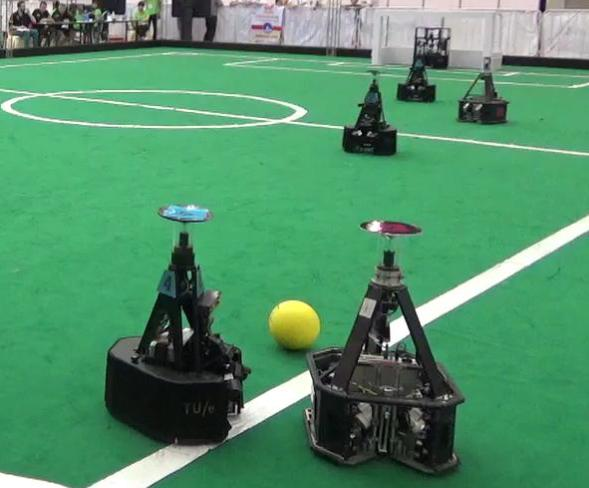robot: (302, 216, 468, 479), (96, 201, 255, 450), (336, 66, 402, 157), (456, 53, 511, 128), (393, 38, 438, 104)
